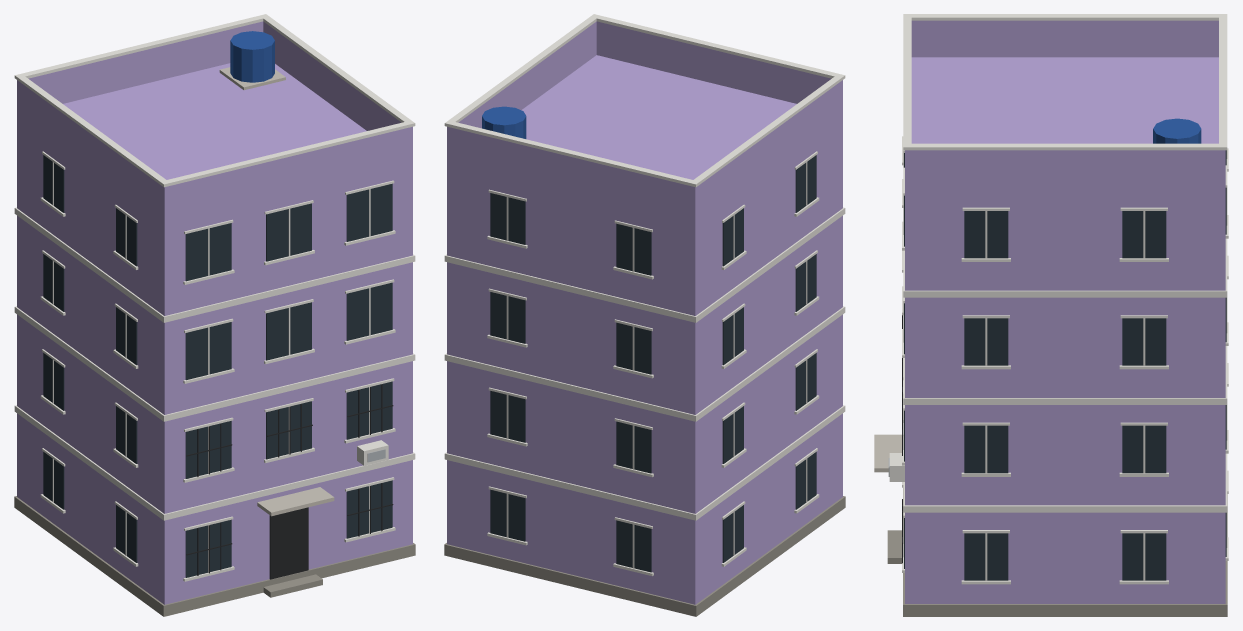
The model's file is BAY_F_Tower_Q.glb.
3 views of the same model, side by side, from view 1: azimuth 30°, elevation 25°; view 2: azimuth 150°, elevation 25°; view 3: azimuth 270°, elevation 25° (orthographic). The views are drawn at different scales.
Visible parts, largest first — view 1: BAY_F_Tower_Q; view 2: BAY_F_Tower_Q; view 3: BAY_F_Tower_Q.
Boxes of the visible parts, x1=… form: BAY_F_Tower_Q: x1=14, y1=14, x2=415, y2=616; BAY_F_Tower_Q: x1=444, y1=14, x2=845, y2=616; BAY_F_Tower_Q: x1=874, y1=14, x2=1228, y2=616.
Size of the model in its own units: 7.24 by 11.8 by 8.07.
1 material, 1 textured.
